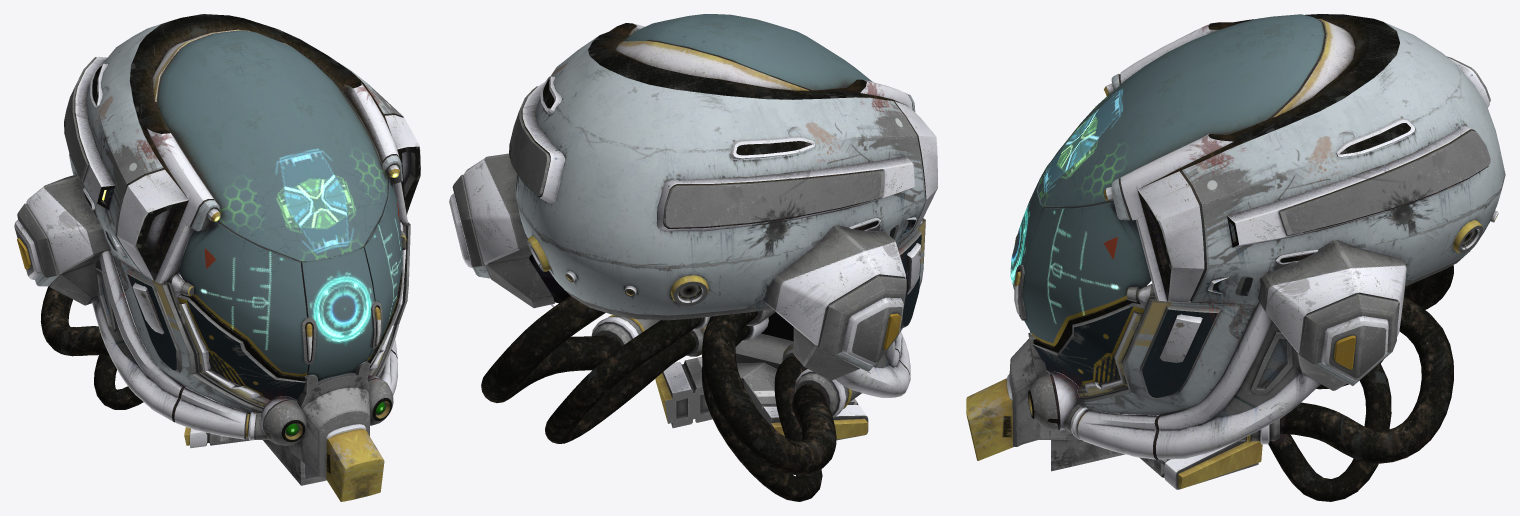
The model's file is Helmet_2.glb.
3 renders of one model, left to right at view 1: azimuth 30°, elevation 25°; view 2: azimuth 150°, elevation 25°; view 3: azimuth 270°, elevation 25°, orthographic. The views are drawn at different scales.
Parts seen in each view (by area): view 1: node_damagedHelmet_-6514; view 2: node_damagedHelmet_-6514; view 3: node_damagedHelmet_-6514.
Boxes of the visible parts, <box> form: node_damagedHelmet_-6514: <box>14,14,420,501</box>; node_damagedHelmet_-6514: <box>449,14,937,501</box>; node_damagedHelmet_-6514: <box>966,14,1505,501</box>.
Bounding box in the file's own units: 1.89 × 1.8 × 2.06.
1 material, 1 textured.
